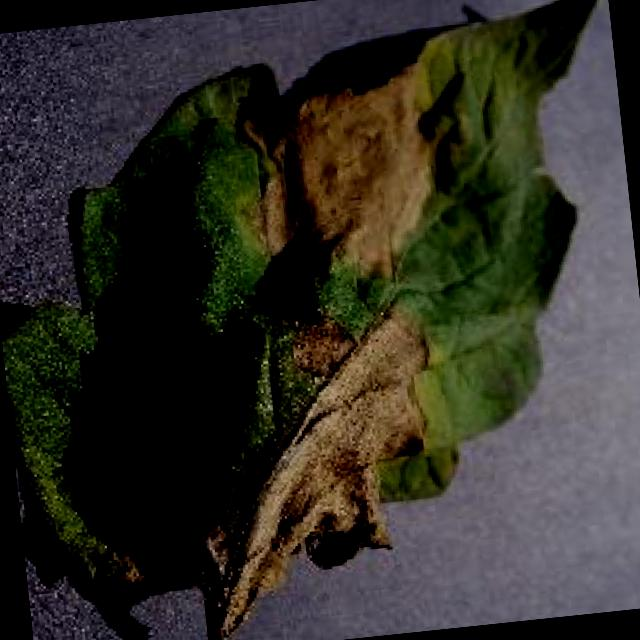leaf blight: (1, 0, 588, 631)
